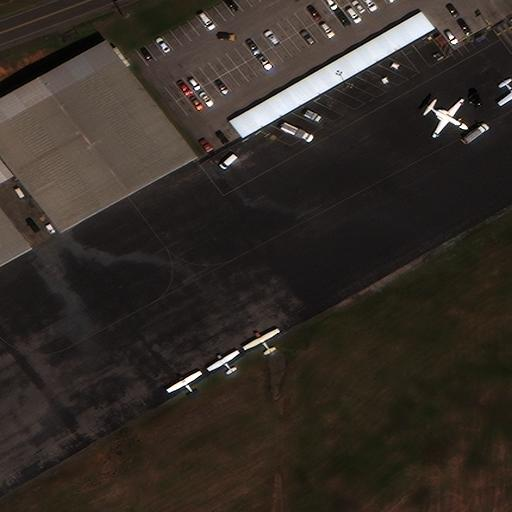Small Civil Transport: (426, 99, 467, 137), (241, 327, 277, 353), (164, 370, 199, 395), (205, 350, 237, 372), (500, 80, 512, 106)
